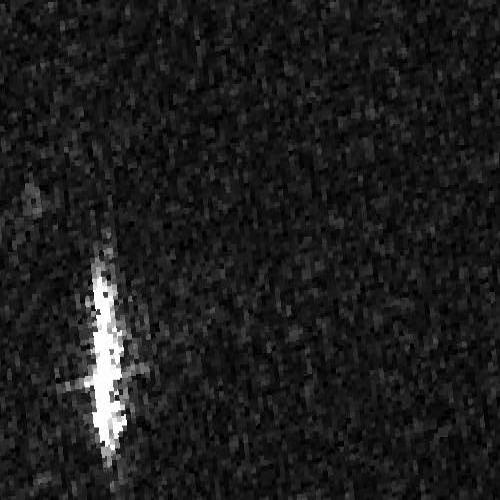ship: (92, 263, 127, 459)
